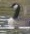goose: (1, 1, 30, 28)
